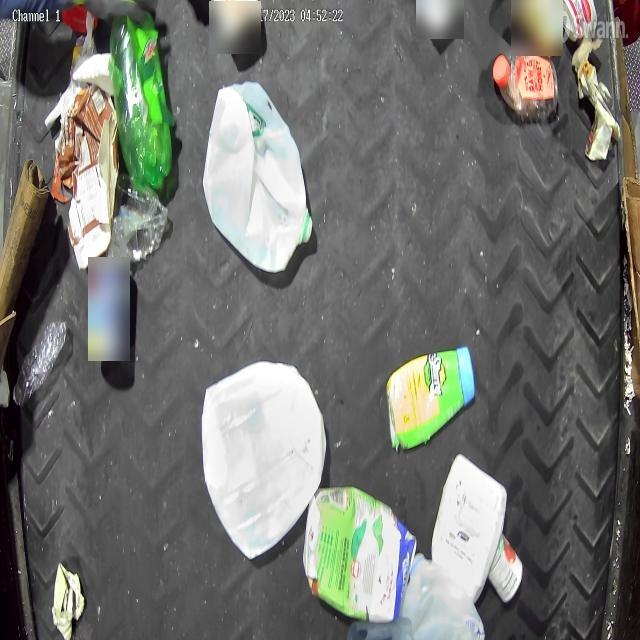milk_jug: (198, 360, 328, 559), (202, 79, 312, 271), (394, 553, 486, 640)
non_white_jug: (304, 486, 420, 624), (387, 346, 478, 454)
plastic_bottle: (13, 317, 68, 409)
